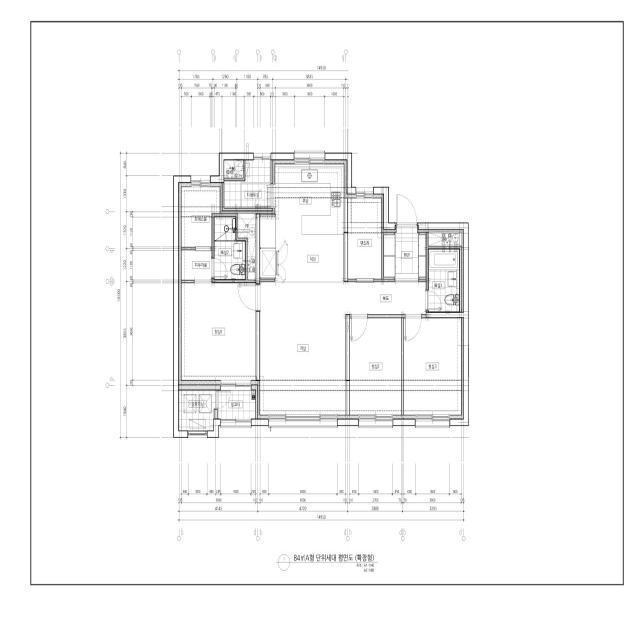space_balconi: (218, 390, 256, 419)
space_bedroom: (179, 283, 256, 385), (404, 318, 463, 419), (350, 318, 401, 419)
space_dressroom: (179, 183, 222, 247), (179, 250, 212, 280)
space_front: (384, 226, 426, 282)
space_kitchen: (260, 160, 347, 282)
space_living_room: (258, 282, 426, 419)
space_multipurpose_space: (224, 160, 271, 208)
space_other: (348, 194, 383, 279), (238, 211, 256, 280), (428, 230, 463, 246), (224, 160, 243, 178)
space_outdoor_room: (179, 390, 216, 430)
space_toilet: (428, 249, 460, 312), (214, 216, 245, 280)
